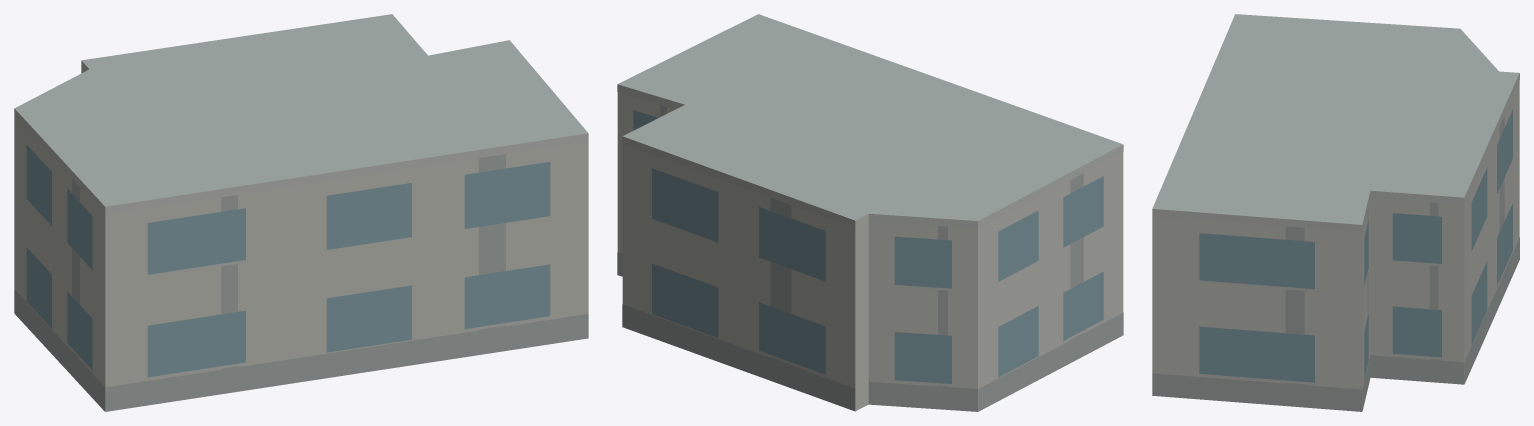
File: survey-upis-32790098.glb
The picture shows the model from 3 angles, left to right: view 1: azimuth 30°, elevation 25°; view 2: azimuth 150°, elevation 25°; view 3: azimuth 270°, elevation 25°; orthographic projection. The views are drawn at different scales.
Parts seen in each view (by area): view 1: survey-upis-32790098.tmp; view 2: survey-upis-32790098.tmp; view 3: survey-upis-32790098.tmp.
Part boxes in pixels (box(x1,y1,x2,y2)): survey-upis-32790098.tmp: box(14, 14, 588, 411); survey-upis-32790098.tmp: box(617, 14, 1123, 411); survey-upis-32790098.tmp: box(1152, 14, 1519, 411).
Bounding box in the file's own units: 14.77 × 6.1 × 10.87.
